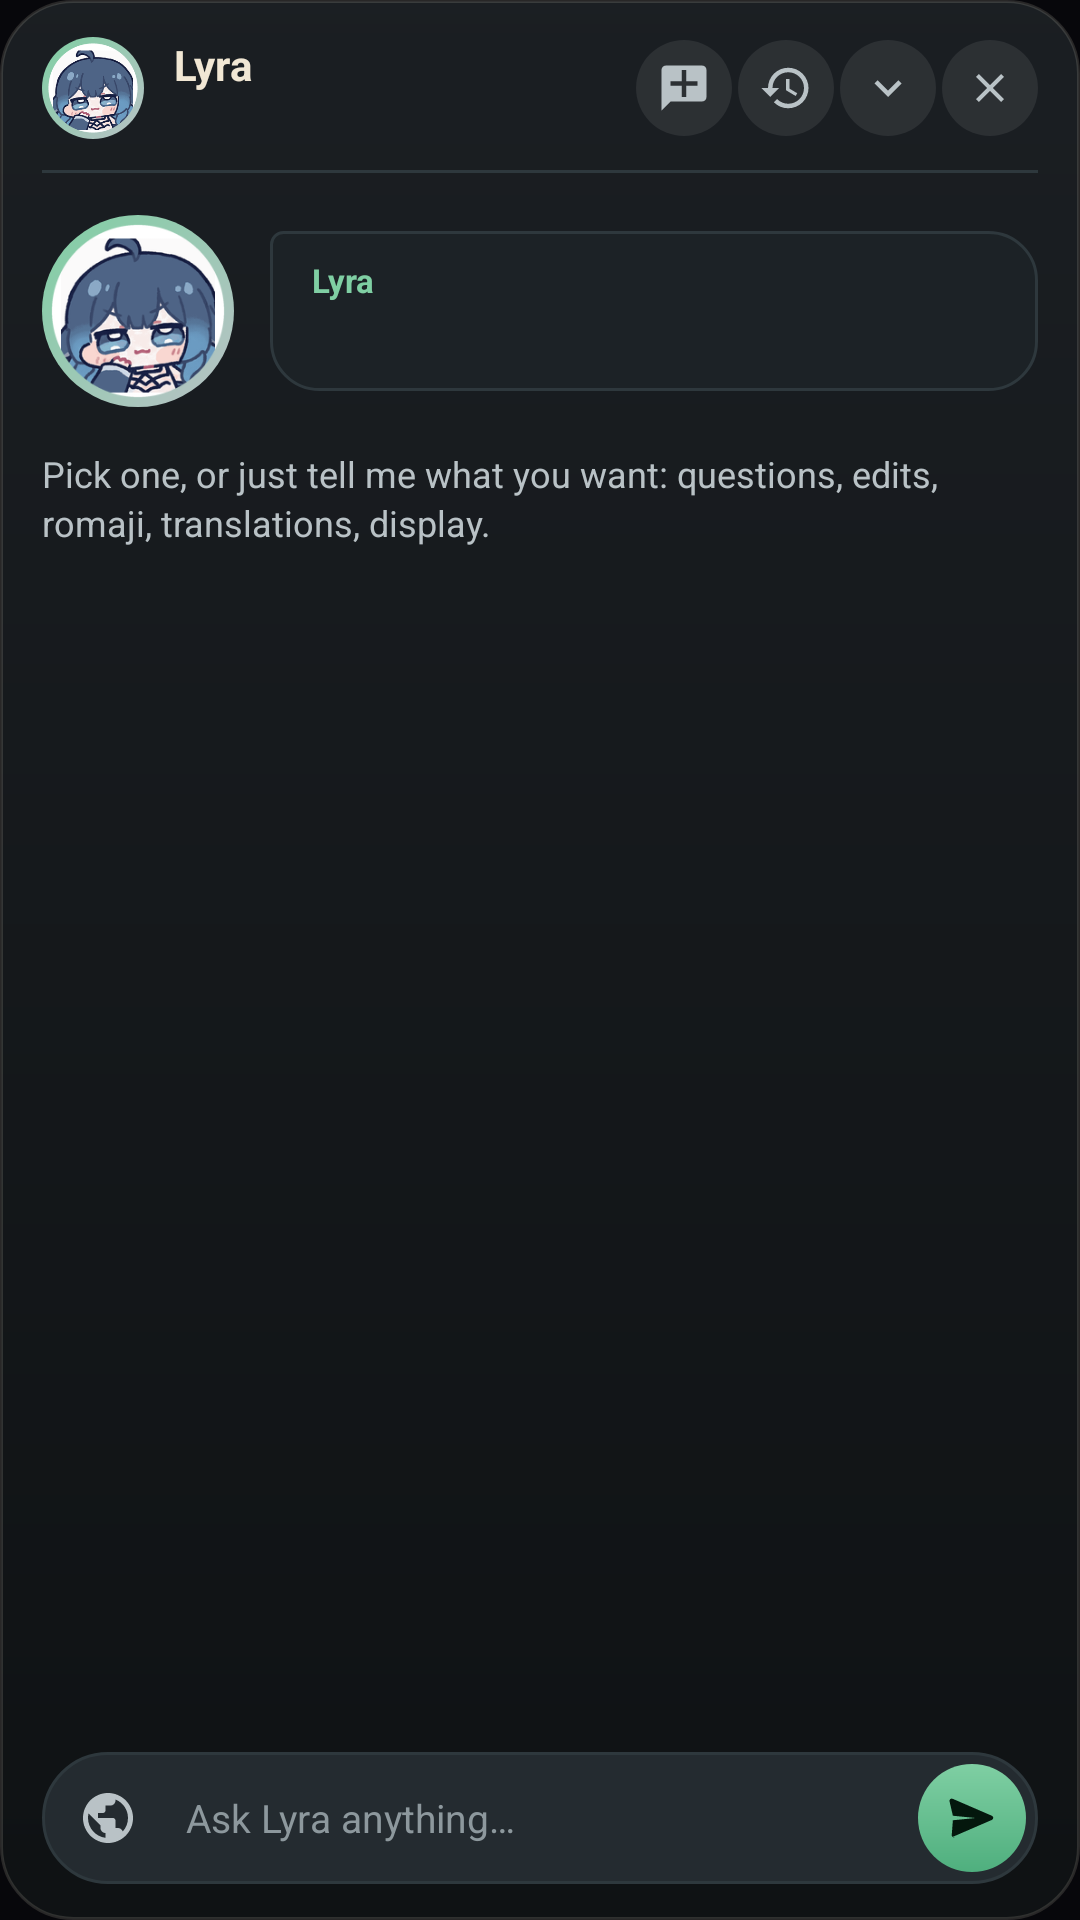

Where icons sit on this 1080 x 1920 app screen, as (x1, y1, x2, y2):
Chat History: (738, 40, 834, 136)
Close overlay: (942, 40, 1038, 136)
New Chat: (661, 65, 707, 111)
Send: (918, 1764, 1026, 1872)
Toggle Web Search: (83, 1793, 133, 1843)
